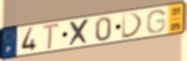0: (94, 16, 114, 44)
4: (20, 25, 39, 54)
D: (121, 11, 145, 40)
G: (146, 8, 167, 35)
T: (42, 22, 61, 52)
X: (68, 17, 91, 48)
